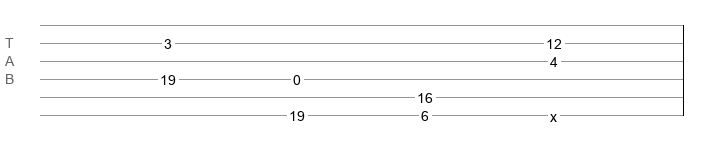0: (293, 72, 301, 82)
12: (546, 36, 562, 46)
16: (417, 90, 433, 100)
19: (160, 72, 176, 82), (289, 108, 305, 118)
3: (164, 36, 172, 46)
4: (550, 54, 558, 64)
6: (421, 108, 429, 118)
x: (550, 109, 557, 117)
